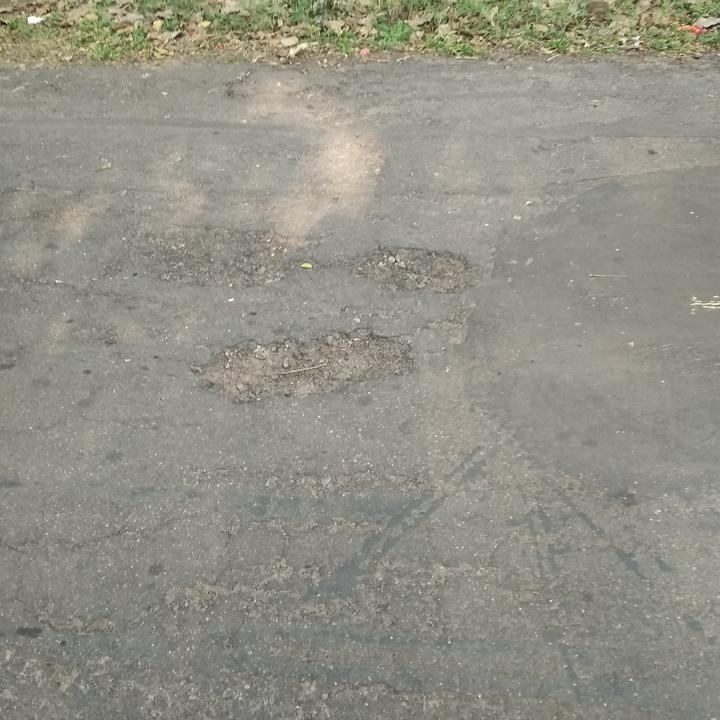pothole: (187, 321, 416, 404), (140, 221, 300, 290), (352, 239, 474, 297)
